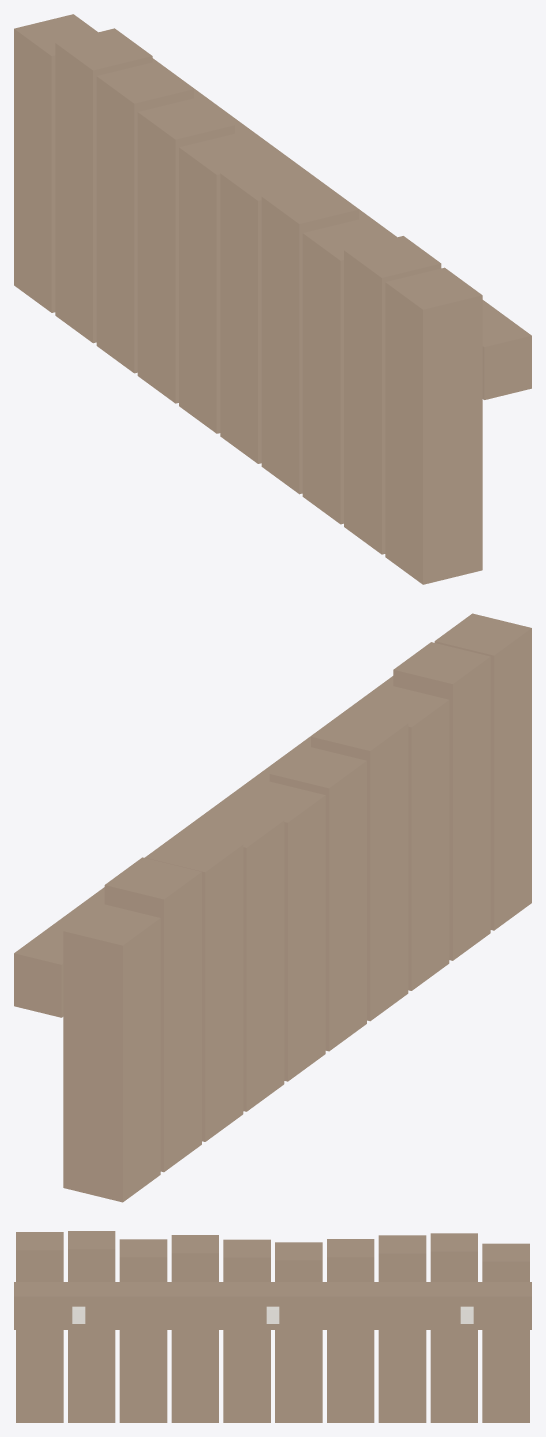
File: Blender_Bulkhead_1.glb
3 renders of one model, top to bottom at view 1: azimuth 30°, elevation 25°; view 2: azimuth 150°, elevation 25°; view 3: azimuth 270°, elevation 25°, orthographic. The views are drawn at different scales.
Parts seen in each view (by area): view 1: Blender_Bulkhead_1; view 2: Blender_Bulkhead_1; view 3: Blender_Bulkhead_1.
Part boxes in pixels (bbox=[...]): Blender_Bulkhead_1: bbox=[14, 14, 531, 584]; Blender_Bulkhead_1: bbox=[14, 613, 531, 1202]; Blender_Bulkhead_1: bbox=[14, 1231, 531, 1422].
Bounding box in the file's own units: 0.4 × 0.888 × 2.4.
